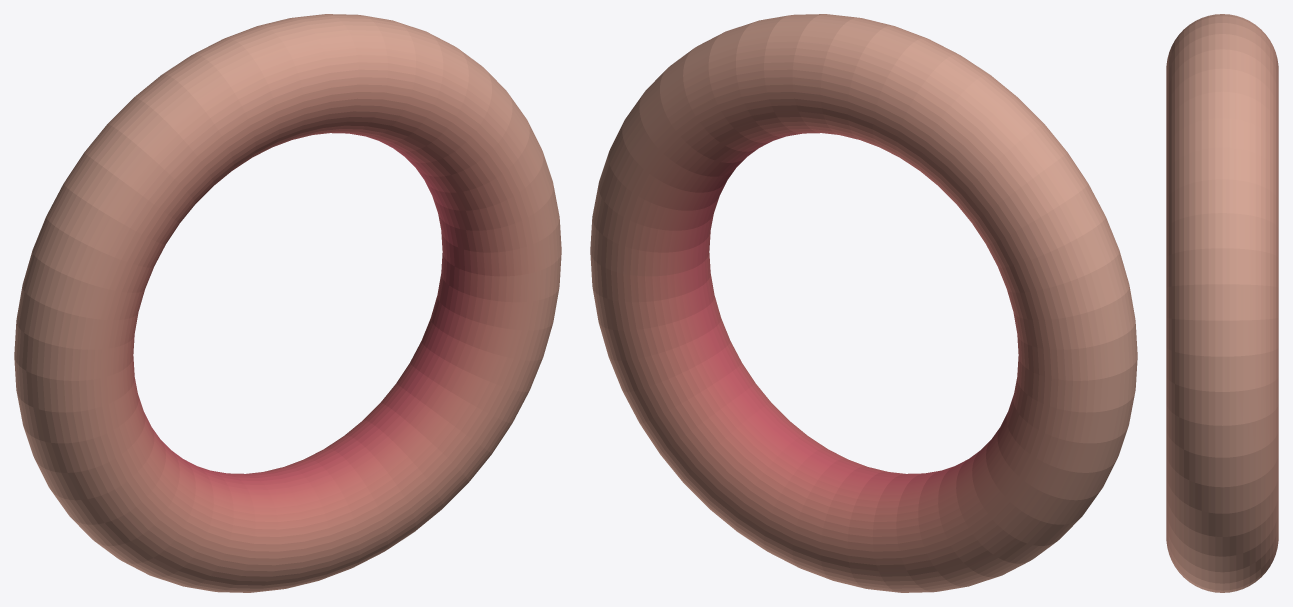
3 renders of one model, left to right at view 1: azimuth 30°, elevation 25°; view 2: azimuth 150°, elevation 25°; view 3: azimuth 270°, elevation 25°, orthographic. The views are drawn at different scales.
Visible parts, largest first — view 1: world; view 2: world; view 3: world.
Part boxes in pixels (bbox=[...]): world: bbox=[14, 14, 561, 592]; world: bbox=[590, 14, 1137, 592]; world: bbox=[1166, 14, 1278, 592].
Bounding box in the file's own units: 32.27 × 32.2 × 6.25.
